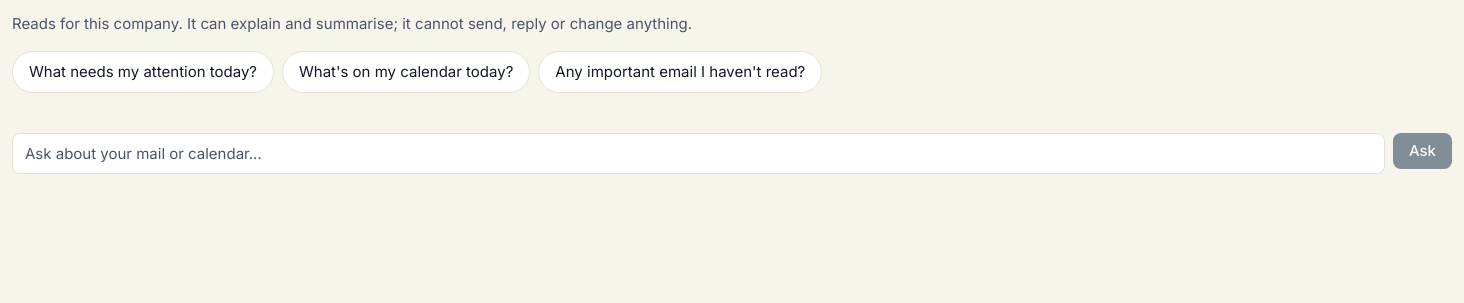
Test case: assistant chat: import request › without the brain view the phrase is an ordinary question for the model (the page itself is gated)
Type "Import my memories" into the field named "Ask the assistant" at (698,153), box [12, 132, 1385, 174]
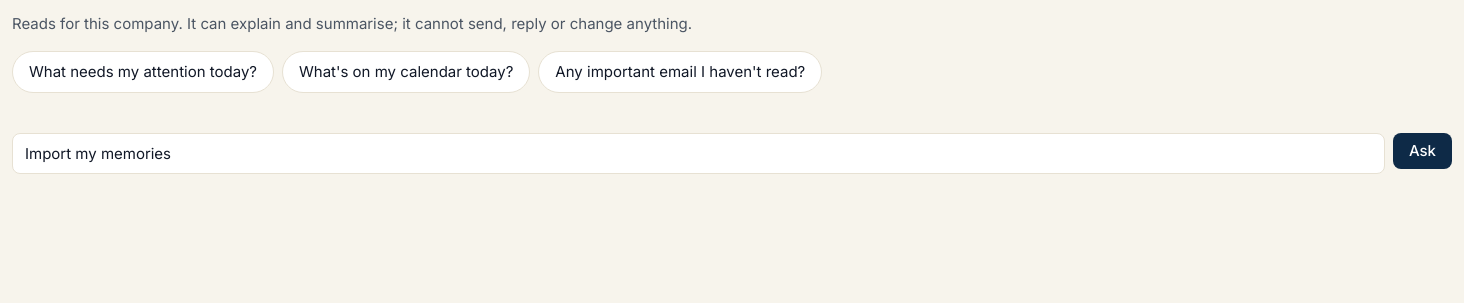
Click the button "Ask" at (1422,150), box [1393, 132, 1452, 168]
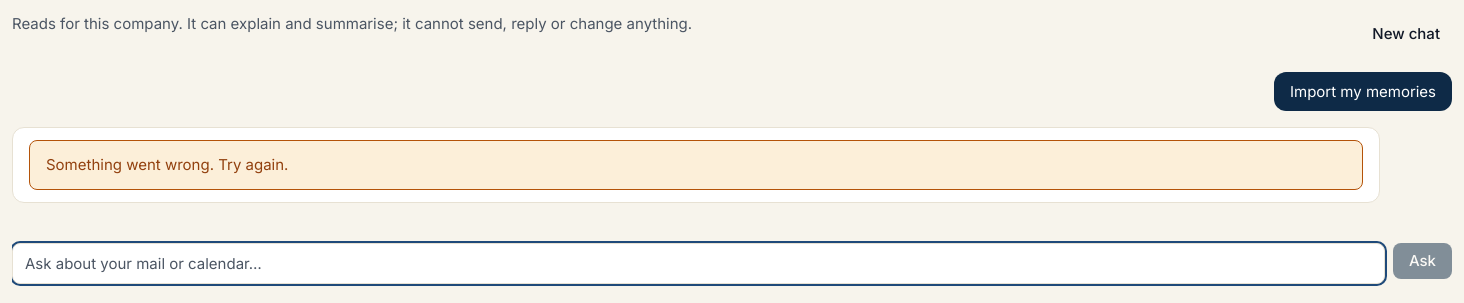
Now the text "Something went wrong. Try again." is shown, box [46, 155, 288, 174]
